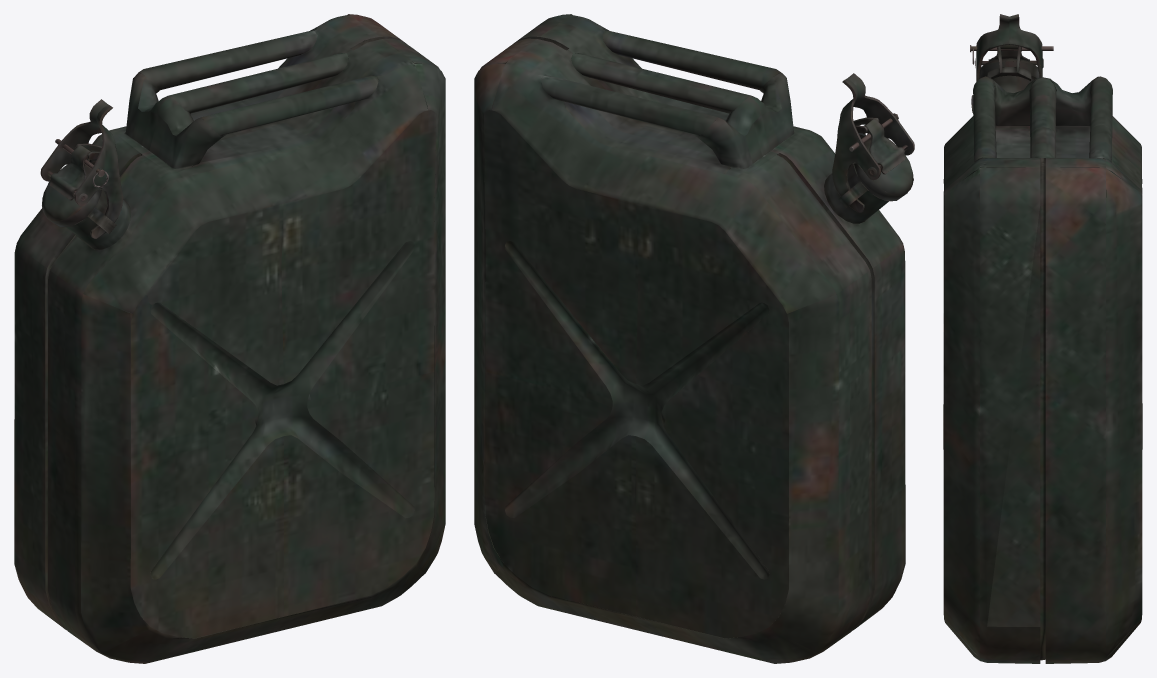
File: jerrycan.glb
The picture shows the model from 3 angles, left to right: view 1: azimuth 30°, elevation 25°; view 2: azimuth 150°, elevation 25°; view 3: azimuth 270°, elevation 25°; orthographic projection. The views are drawn at different scales.
Parts seen in each view (by area): view 1: jerrycan; view 2: jerrycan; view 3: jerrycan.
Boxes of the visible parts, x1,y1,x2,y2 form: jerrycan: (14, 14, 445, 663); jerrycan: (474, 14, 914, 663); jerrycan: (943, 14, 1142, 663).
Bounding box in the file's own units: 0.3607 × 0.5 × 0.1716.
Materials: 1 (1 with a texture image).
